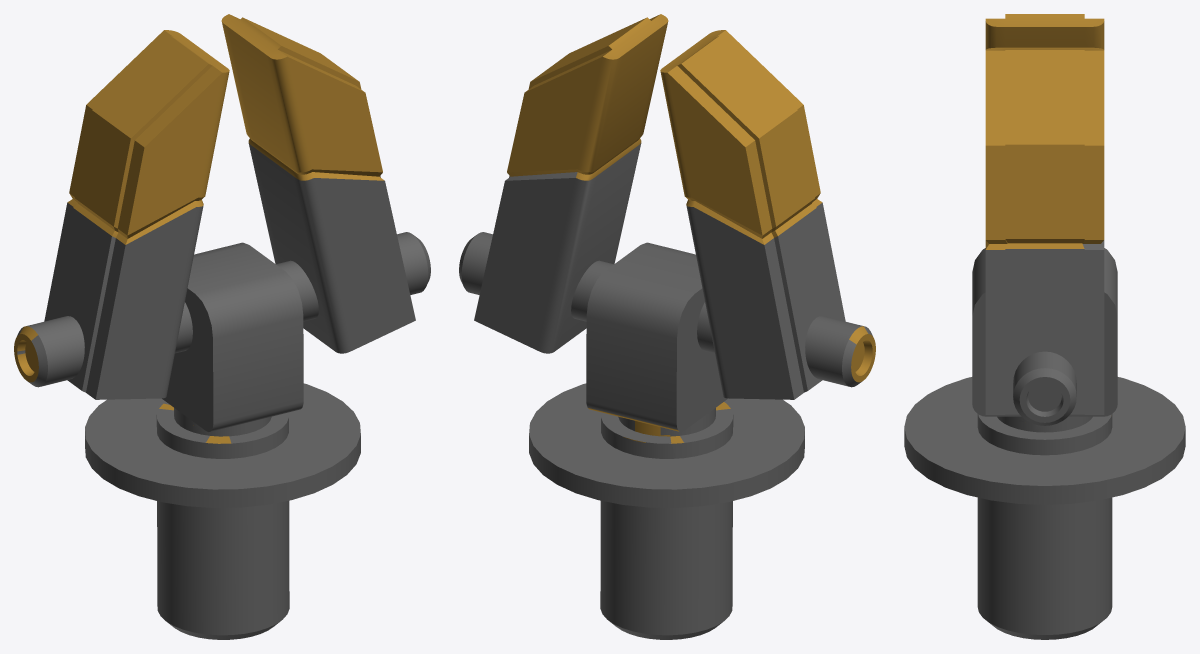
The model's file is armRetracted.fbx.
The picture shows the model from 3 angles, left to right: view 1: azimuth 30°, elevation 25°; view 2: azimuth 150°, elevation 25°; view 3: azimuth 270°, elevation 25°; orthographic projection.
Parts seen in each view (by area): view 1: arm.072; view 2: arm.072; view 3: arm.072.
Boxes of the visible parts, x1,y1,x2,y2 form: arm.072: (14, 14, 430, 639); arm.072: (459, 14, 875, 639); arm.072: (904, 14, 1185, 639).
Bounding box in the file's own units: 204 × 125 × 286.
